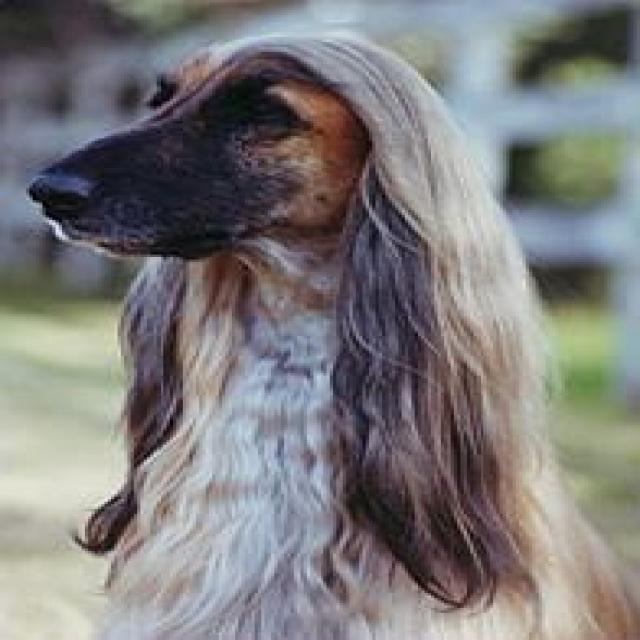afghan_hound: (29, 27, 637, 638)
